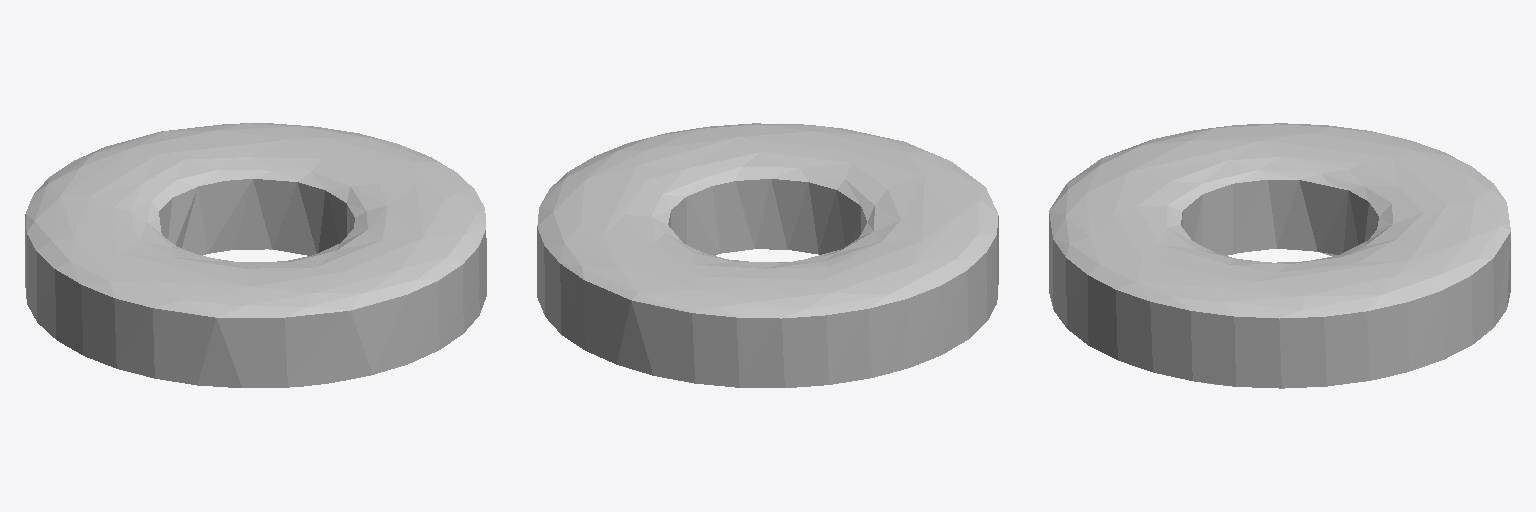
The model's file is joint.obj.
3 renders of one model, left to right at view 1: azimuth 30°, elevation 25°; view 2: azimuth 150°, elevation 25°; view 3: azimuth 270°, elevation 25°, orthographic.
Visible parts, largest first — view 1: 柱体.002; view 2: 柱体.002; view 3: 柱体.002.
Boxes of the visible parts, box(x1,y1,x2,y2) form: 柱体.002: box(25, 123, 486, 387); 柱体.002: box(537, 123, 998, 387); 柱体.002: box(1049, 123, 1510, 388).
Size of the model in its own units: 0.1889 by 0.0401 by 0.1889.